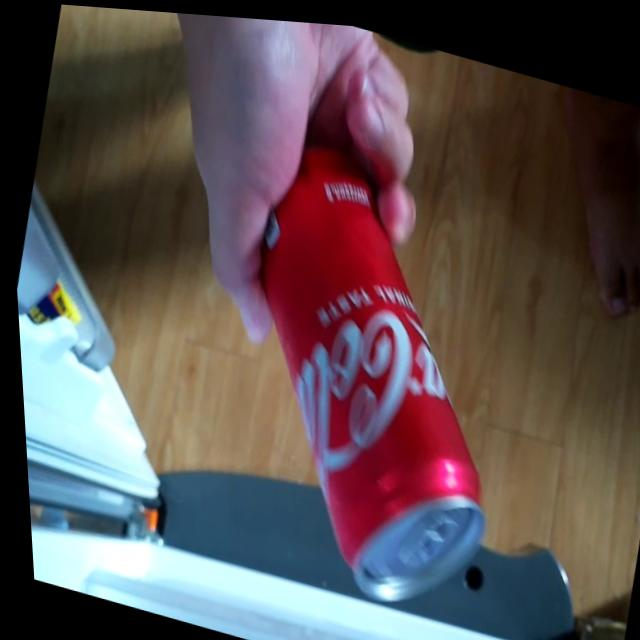coke: (174, 103, 558, 614)
